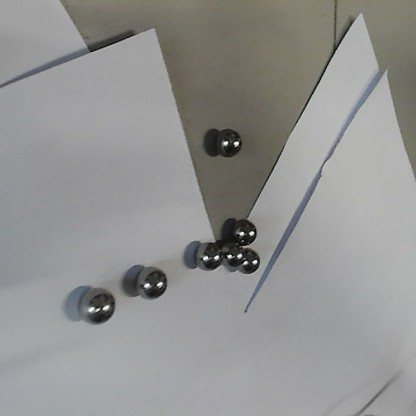ironball: (77, 288, 114, 324), (134, 264, 168, 299), (213, 124, 242, 158), (192, 239, 222, 271), (219, 239, 244, 273), (237, 246, 261, 277), (232, 216, 257, 244)
